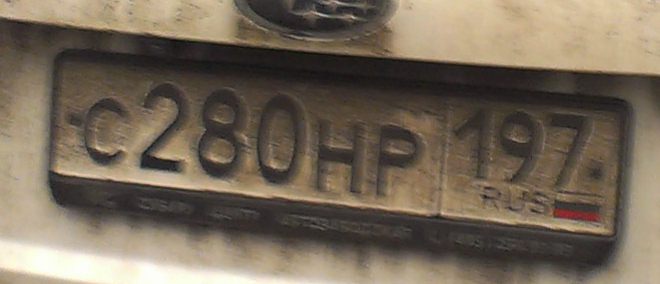character: (194, 82, 248, 184), (255, 88, 309, 186), (137, 79, 192, 172), (544, 106, 593, 195), (313, 116, 365, 199), (78, 93, 131, 171), (497, 101, 545, 187), (373, 122, 424, 201), (452, 105, 496, 185)
